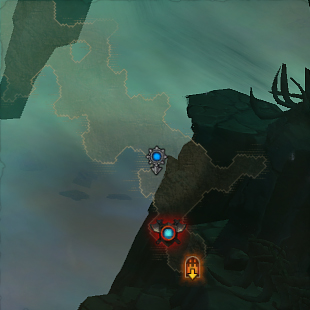Exit: (184, 254, 202, 281)
